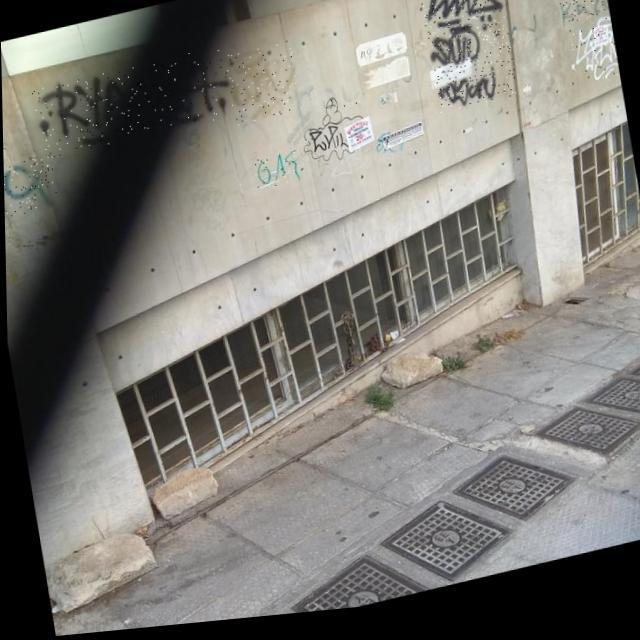-: (29, 49, 234, 162), (416, 0, 518, 124), (224, 45, 301, 132), (299, 98, 372, 175), (566, 28, 620, 99), (3, 155, 58, 218), (252, 154, 304, 198), (558, 0, 610, 36), (570, 0, 606, 7)
